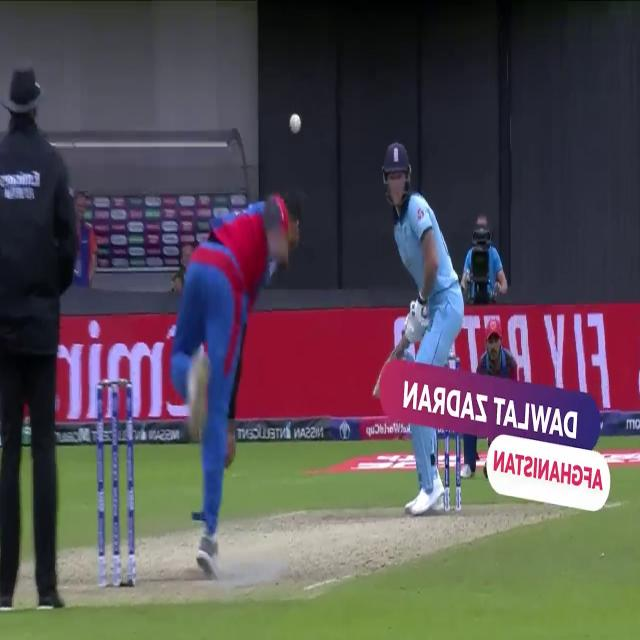ball: (287, 109, 303, 135)
